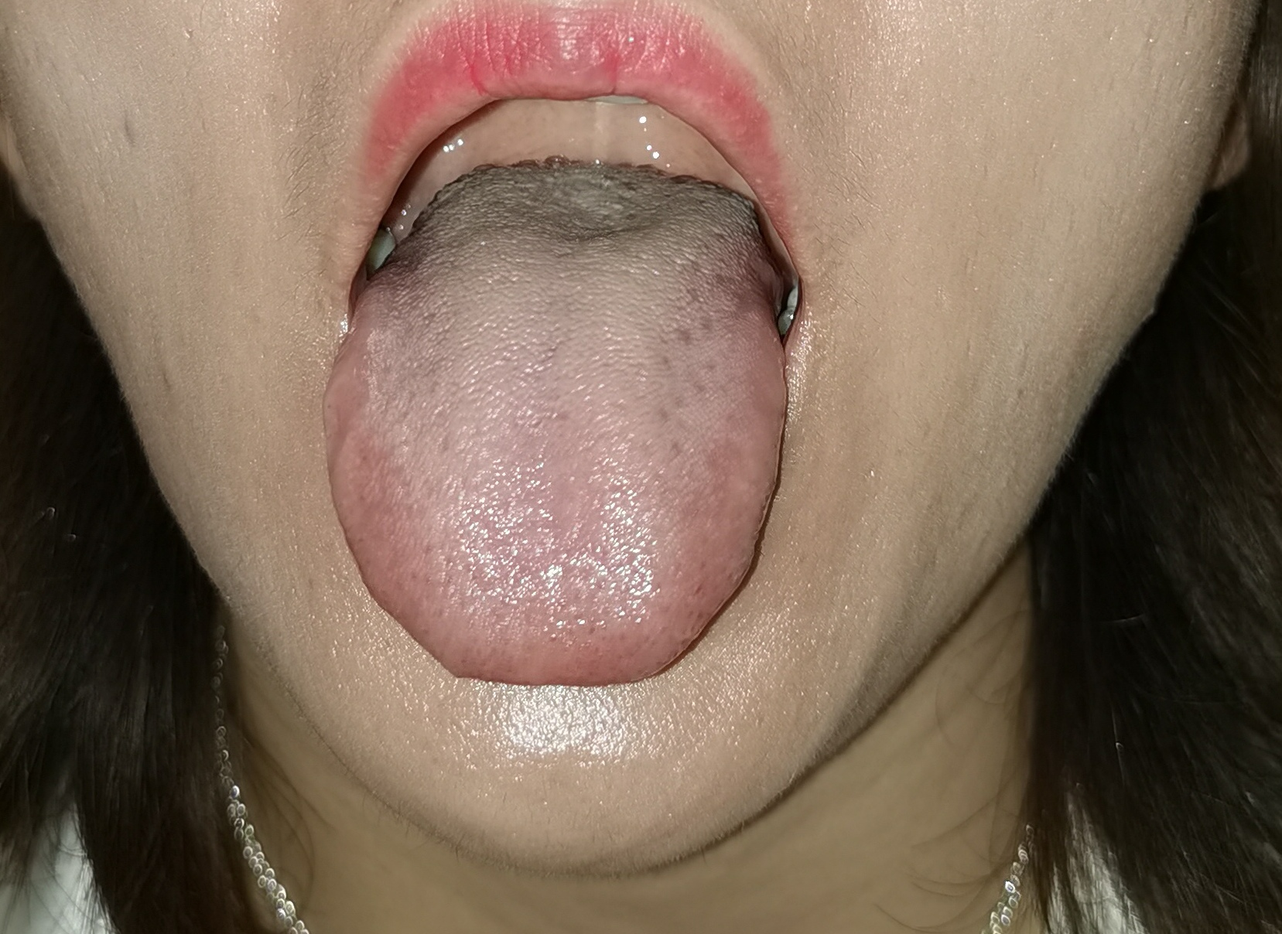baitaishe: (320, 161, 787, 687)
hongdianshe: (688, 579, 707, 597)
